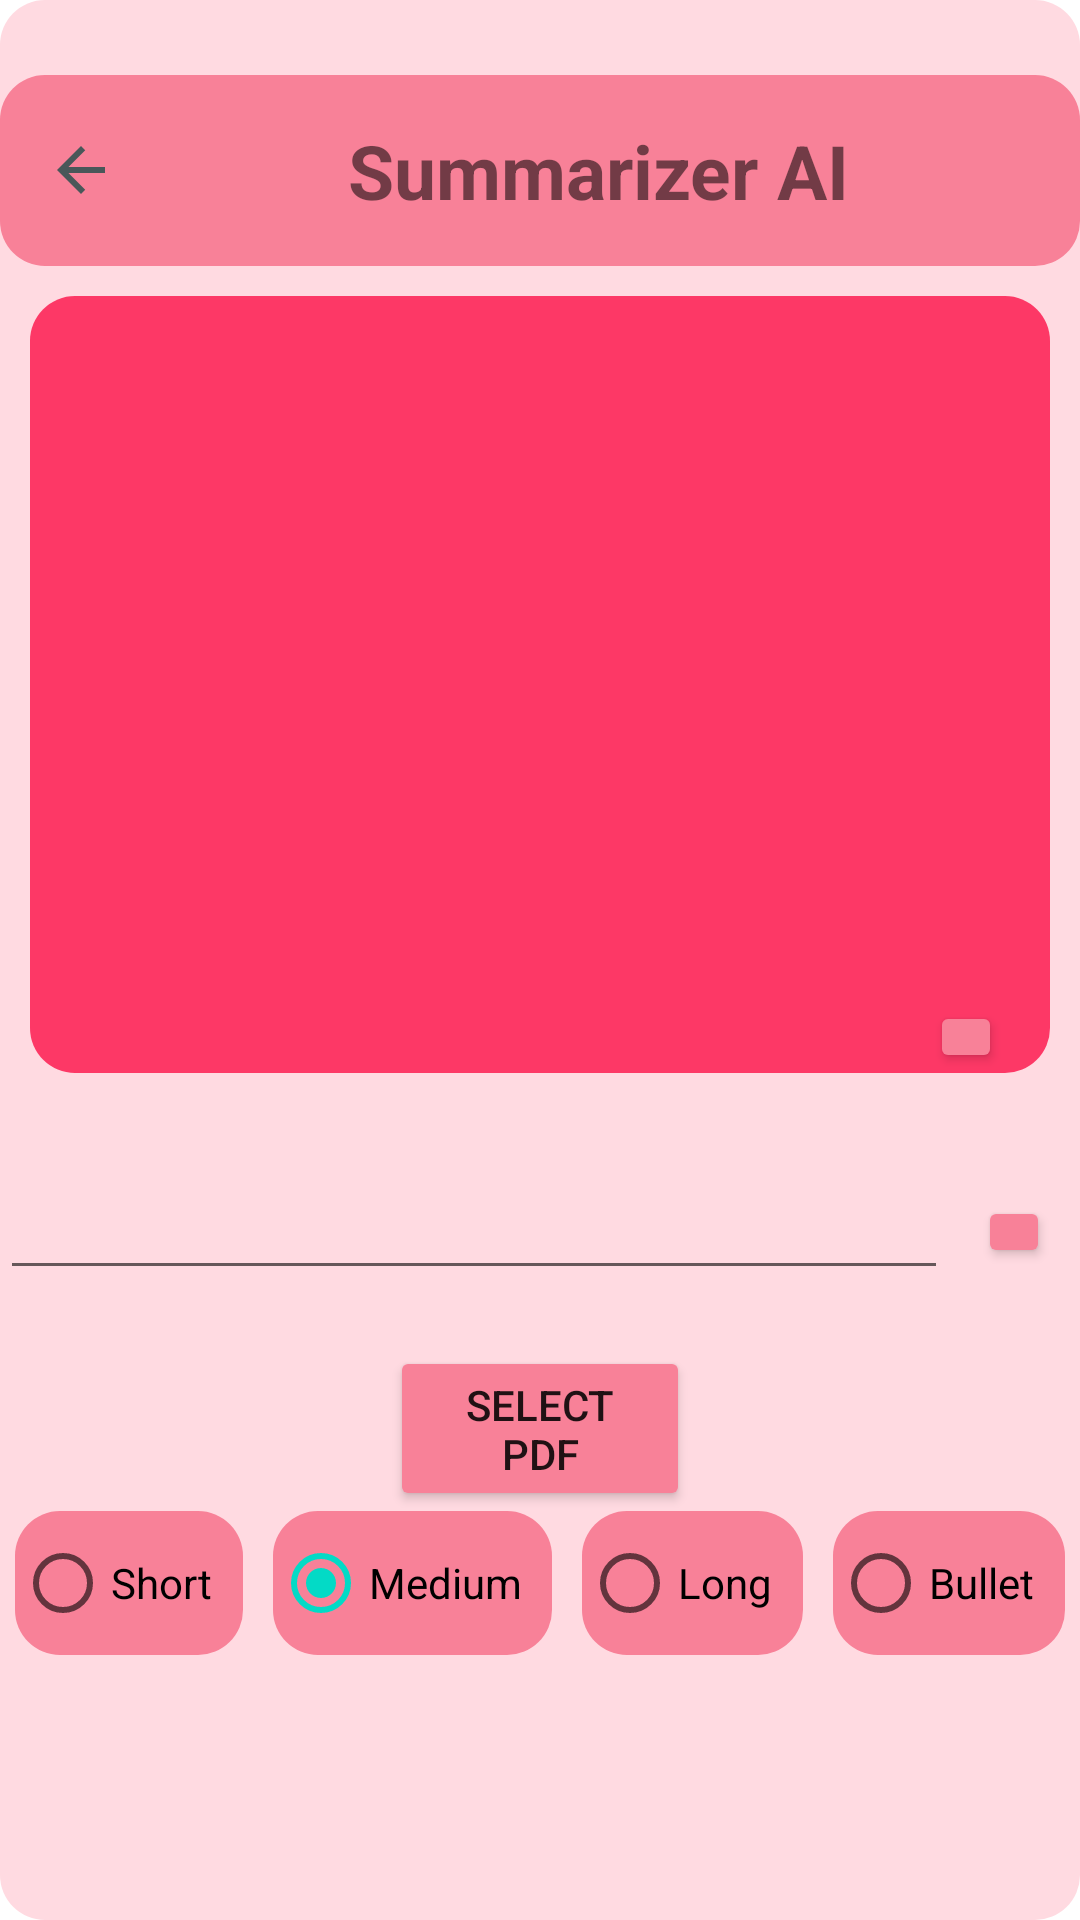

Where to tap for icons on this 1080 x 1920 app screen, as (x,y):
backbutton: (81,170)
